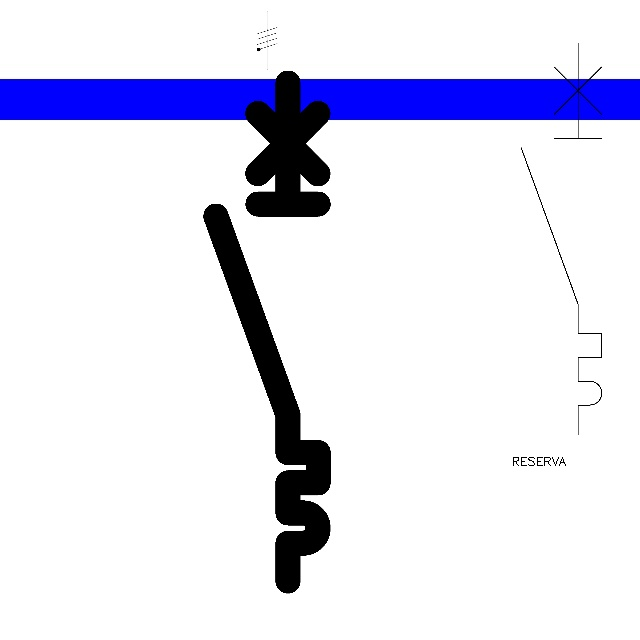interruptor_termomagnetico: (203, 70, 331, 594), (511, 33, 612, 445)
